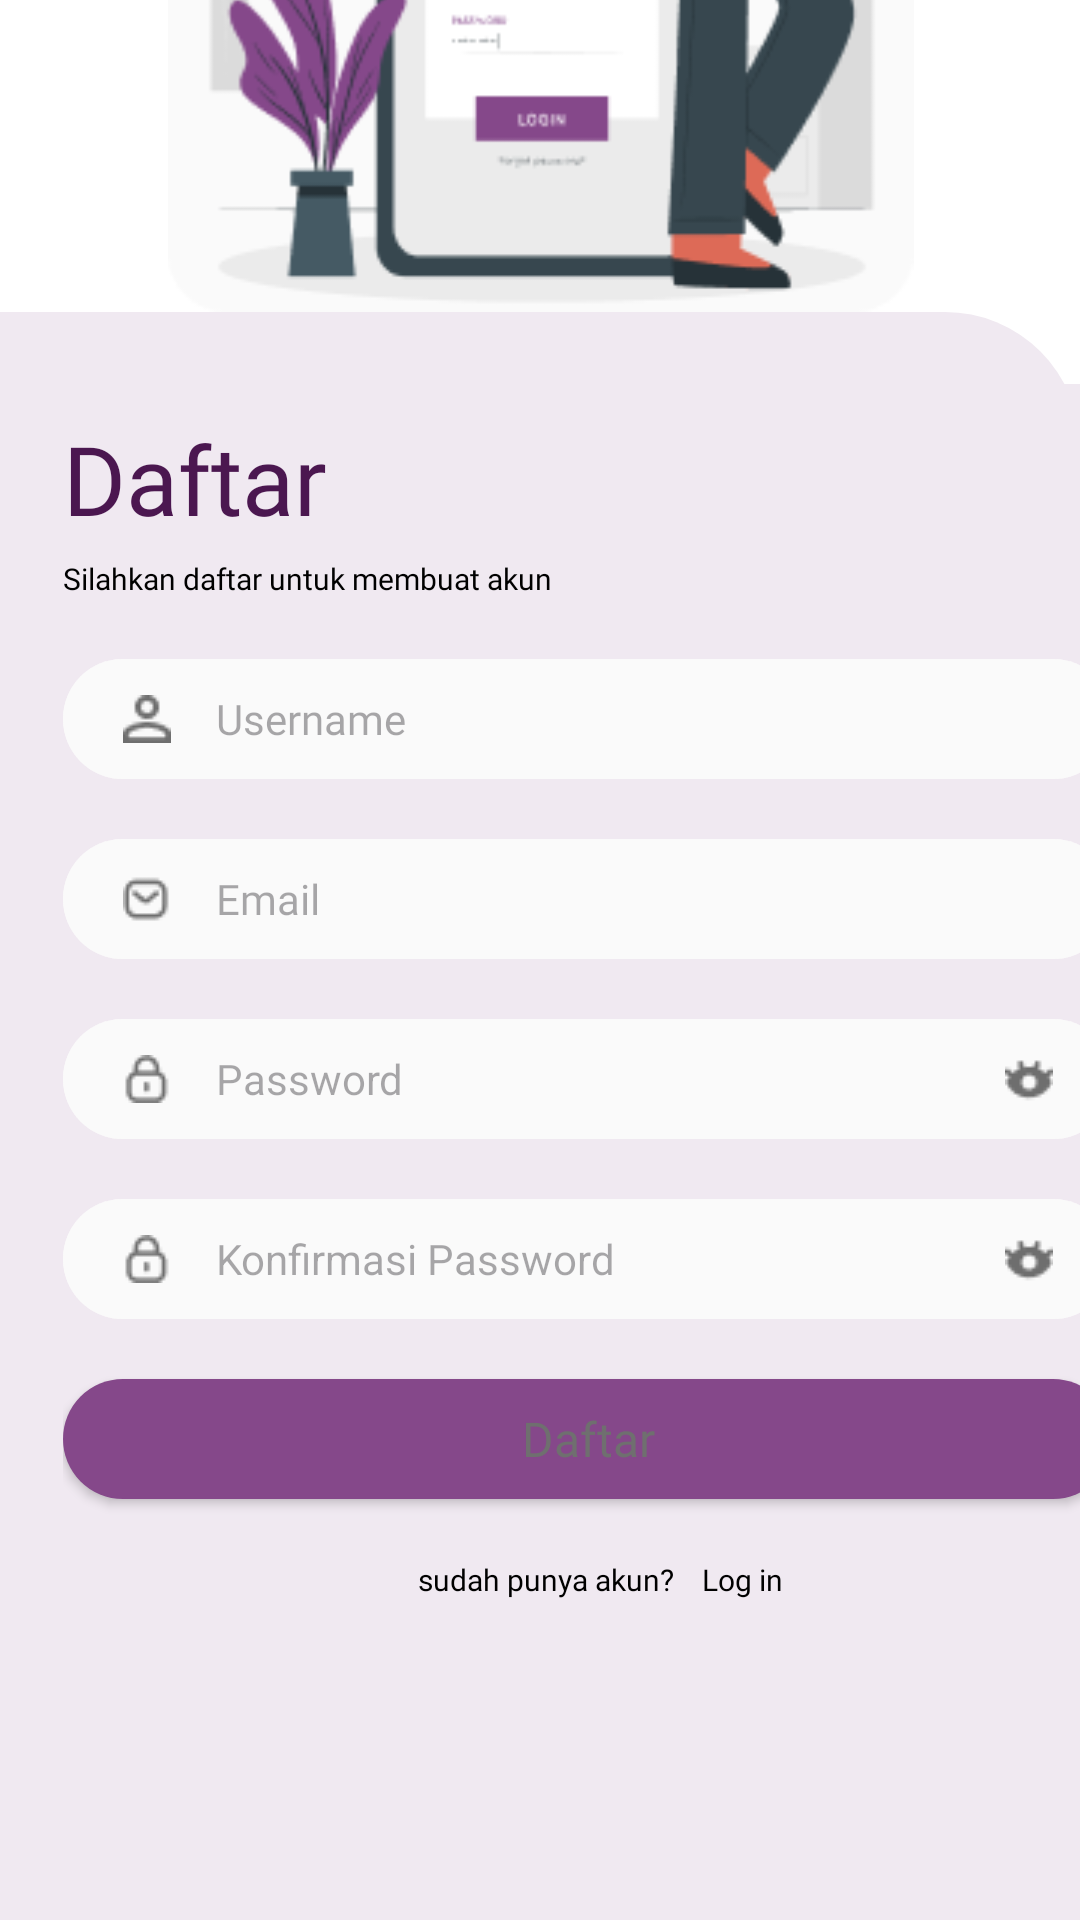

Where icons sit on this 1080px x 1920px app screen, as (x1, y1, x2, y2):
lock: (125, 1055, 168, 1103), (125, 1235, 168, 1283)
message: (123, 878, 169, 920)
